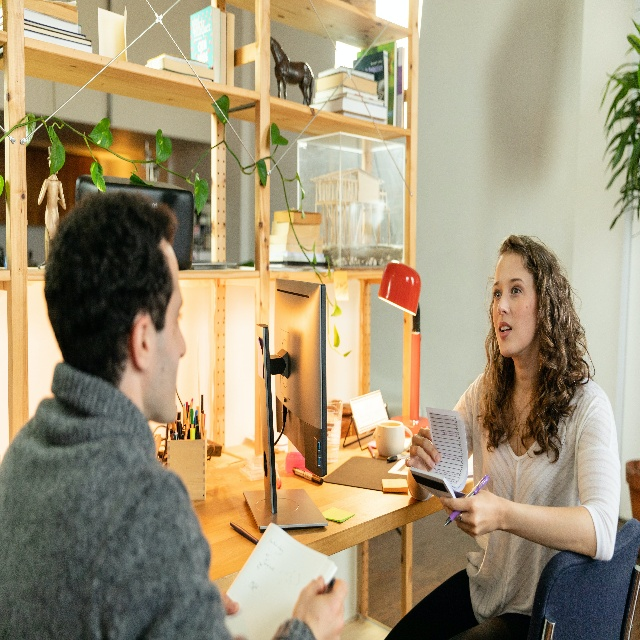Sin_guantes: (292, 575, 349, 640), (438, 489, 497, 539), (404, 427, 441, 479)
